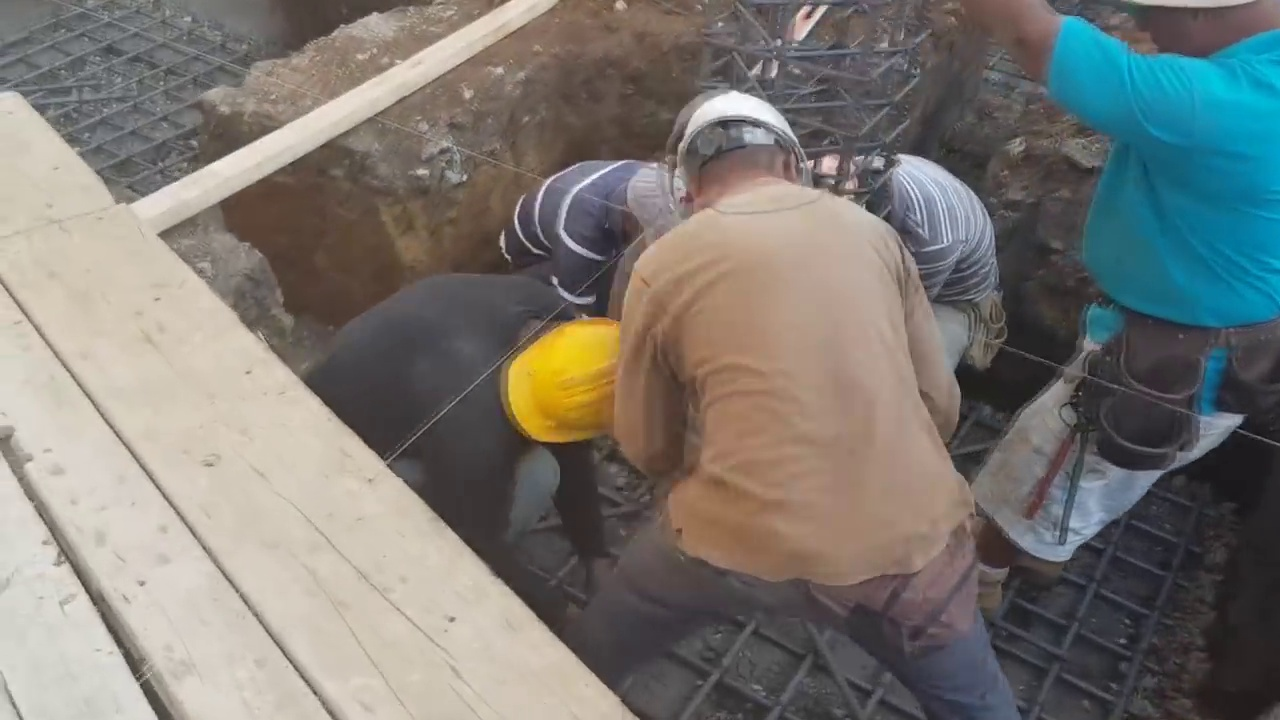helmet: (498, 314, 633, 448), (671, 87, 812, 185), (808, 151, 858, 199)
helmet-off: (1121, 1, 1280, 62), (619, 166, 686, 244)
helmet-on: (498, 312, 633, 481), (666, 87, 810, 224), (810, 150, 901, 220)
person: (559, 86, 1024, 712), (961, 1, 1280, 614), (296, 268, 657, 575), (808, 150, 1004, 375), (499, 152, 684, 306)
